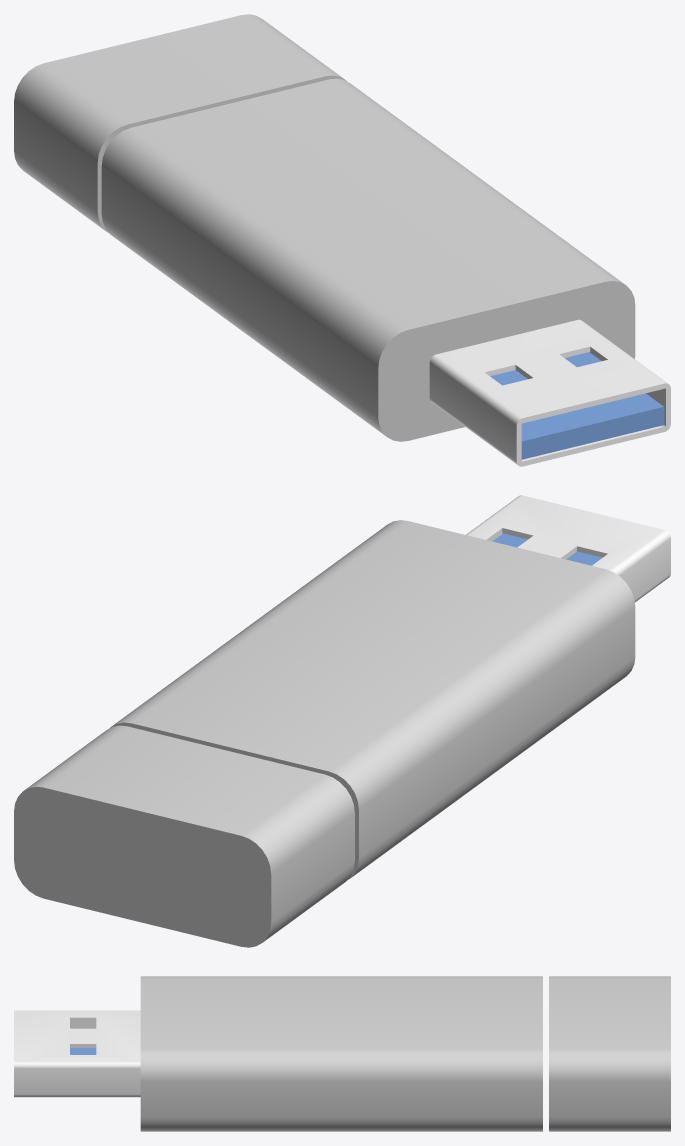
File: usb.glb
The picture shows the model from 3 angles, top to bottom: view 1: azimuth 30°, elevation 25°; view 2: azimuth 150°, elevation 25°; view 3: azimuth 270°, elevation 25°; orthographic projection. The views are drawn at different scales.
Visible parts, largest first — view 1: Corps, Bout, Plug, Plug bleu; view 2: Corps, Bout, Plug; view 3: Corps, Bout, Plug.
Part boxes in pixels (box(x1,y1,x2,y2)): Corps: box(101, 78, 635, 441); Bout: box(14, 14, 346, 232); Plug: box(429, 319, 670, 466); Plug bleu: box(490, 352, 664, 459); Corps: box(109, 520, 635, 879); Bout: box(14, 725, 354, 947); Plug: box(466, 495, 670, 602); Corps: box(140, 976, 542, 1131); Bout: box(549, 976, 670, 1131); Plug: box(14, 1010, 140, 1097).
Size of the model in its own units: 1.85 by 0.7643 by 5.63.
